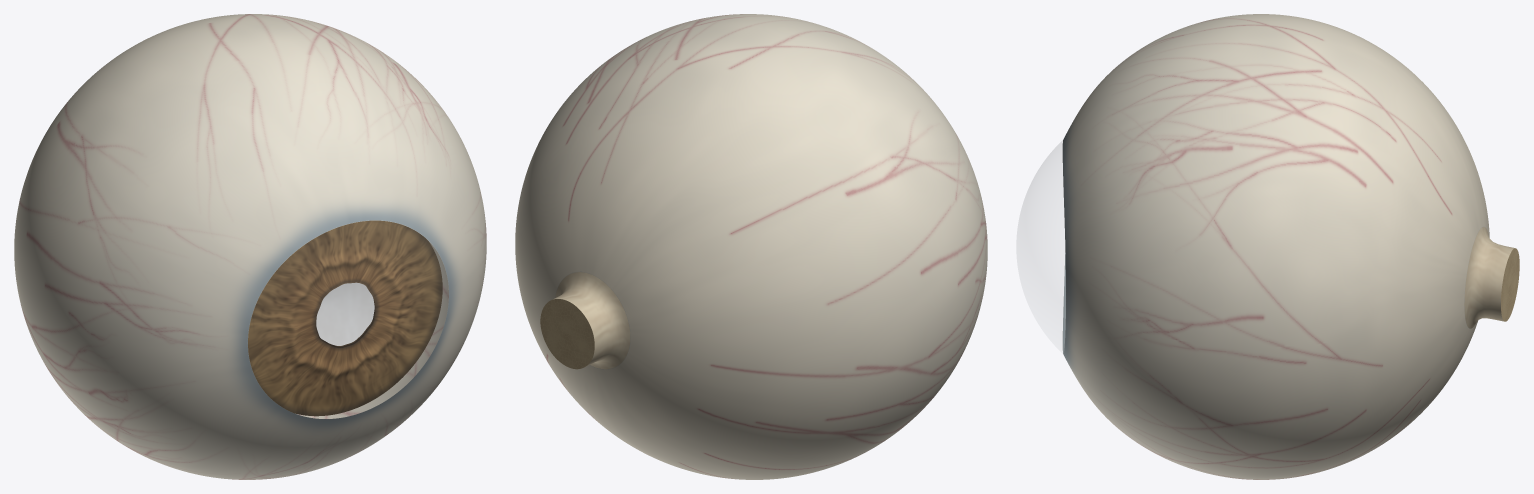
File: whole.glb
3 renders of one model, left to right at view 1: azimuth 30°, elevation 25°; view 2: azimuth 150°, elevation 25°; view 3: azimuth 270°, elevation 25°, orthographic.
Parts seen in each view (by area): view 1: SCLERA_R, IRIS_R, DISPLAY_DARK_INTERIOR; view 2: SCLERA_R, OPTIC_NERVE_STUMP_R; view 3: SCLERA_R, CORNEA_R, OPTIC_NERVE_STUMP_R.
Part boxes in pixels (box(x1,y1,x2,y2)): SCLERA_R: box(14, 14, 486, 479); IRIS_R: box(248, 220, 442, 416); DISPLAY_DARK_INTERIOR: box(297, 282, 374, 414); SCLERA_R: box(515, 14, 987, 479); OPTIC_NERVE_STUMP_R: box(540, 272, 630, 369); SCLERA_R: box(1062, 14, 1489, 479); CORNEA_R: box(1017, 141, 1064, 352); OPTIC_NERVE_STUMP_R: box(1464, 227, 1519, 328).
Bounding box in the file's own units: 0.024 × 0.0235 × 0.0255.
6 materials, 6 textured.
